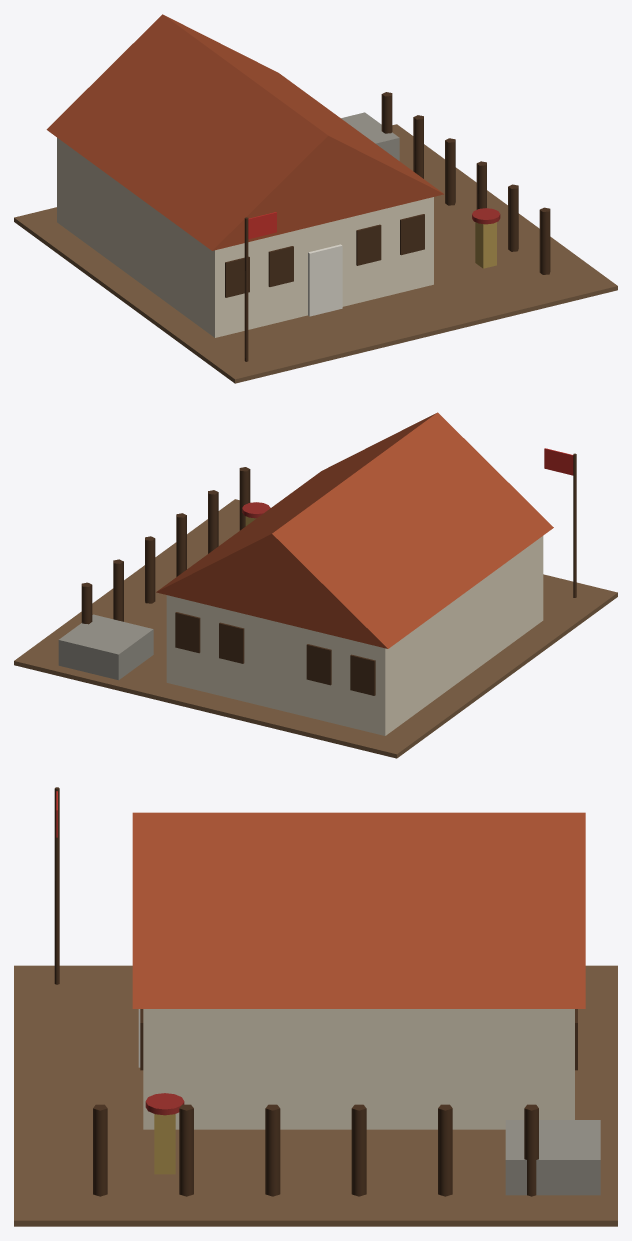
File: bld_special_barracks_a02.glb
3 renders of one model, top to bottom at view 1: azimuth 30°, elevation 25°; view 2: azimuth 150°, elevation 25°; view 3: azimuth 270°, elevation 25°, orthographic. The views are drawn at different scales.
Parts seen in each view (by area): view 1: body; view 2: body; view 3: body.
Part boxes in pixels (x1,y1,x2,y2): body: (14, 14, 617, 383); body: (14, 412, 617, 758); body: (14, 787, 617, 1226).
Size of what is drawn, in the model's own units: 14 by 6.39 by 14.
